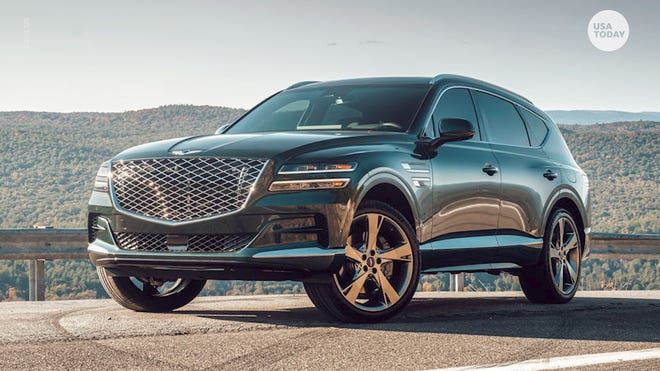car: (86, 74, 590, 325)
